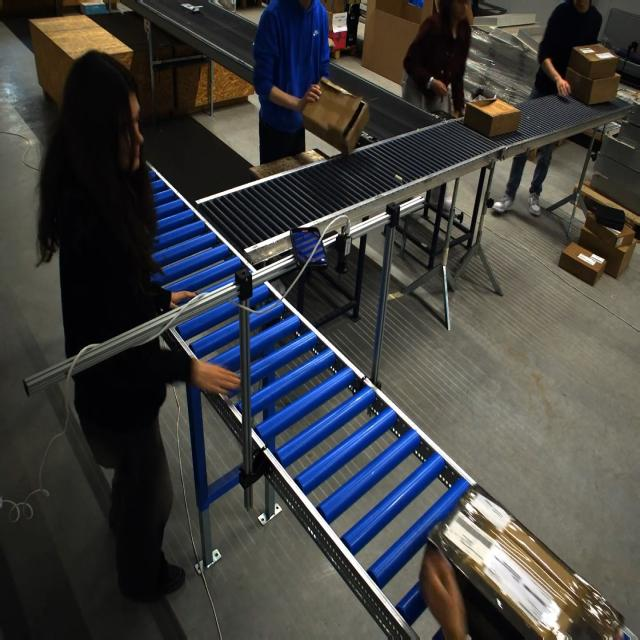box: (420, 477, 636, 636), (299, 73, 374, 155), (463, 97, 522, 140)
product: (179, 3, 203, 14)
